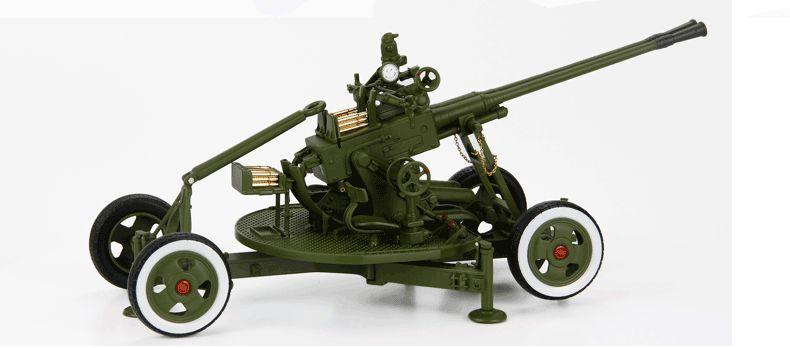MIL_SPG: (89, 20, 707, 336)
